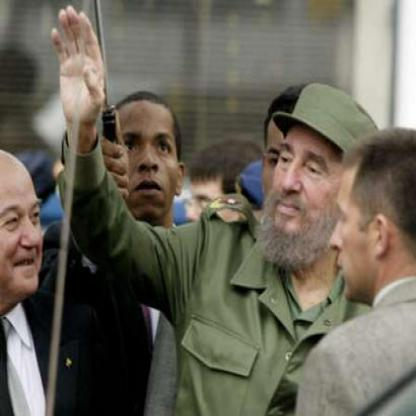face: (272, 91, 354, 253), (109, 93, 185, 225), (1, 152, 53, 301)
